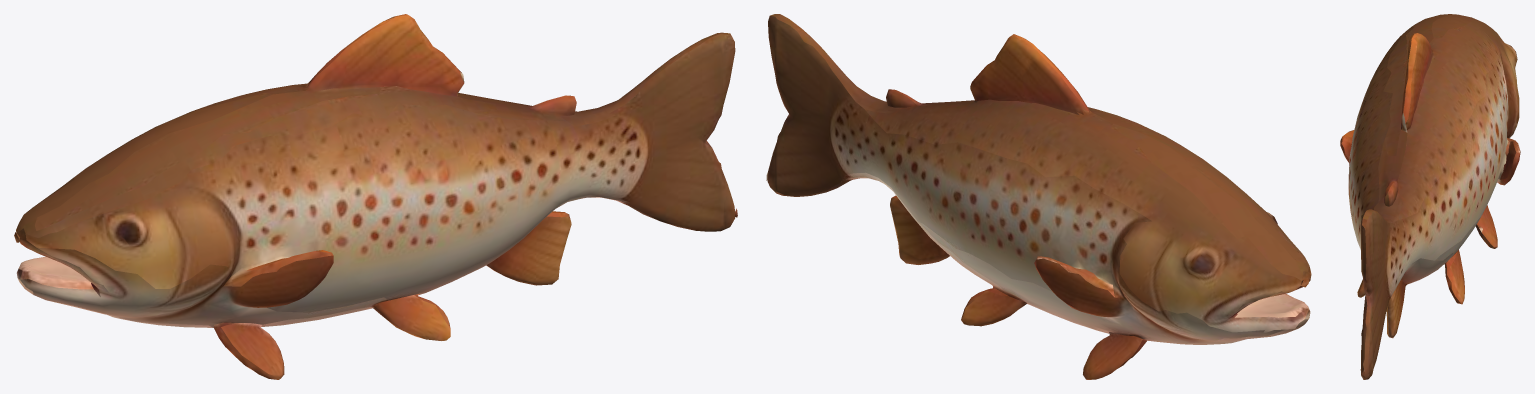
File: fish_m.glb
3 renders of one model, left to right at view 1: azimuth 30°, elevation 25°; view 2: azimuth 150°, elevation 25°; view 3: azimuth 270°, elevation 25°, orthographic. The views are drawn at different scales.
Parts seen in each view (by area): view 1: item_fish_m; view 2: item_fish_m; view 3: item_fish_m.
Boxes of the visible parts, x1,y1,x2,y2 form: item_fish_m: (14, 14, 737, 379); item_fish_m: (766, 14, 1311, 379); item_fish_m: (1340, 14, 1520, 379).
Size of the model in its own units: 1 by 0.4554 by 0.282.
1 material, 1 textured.
